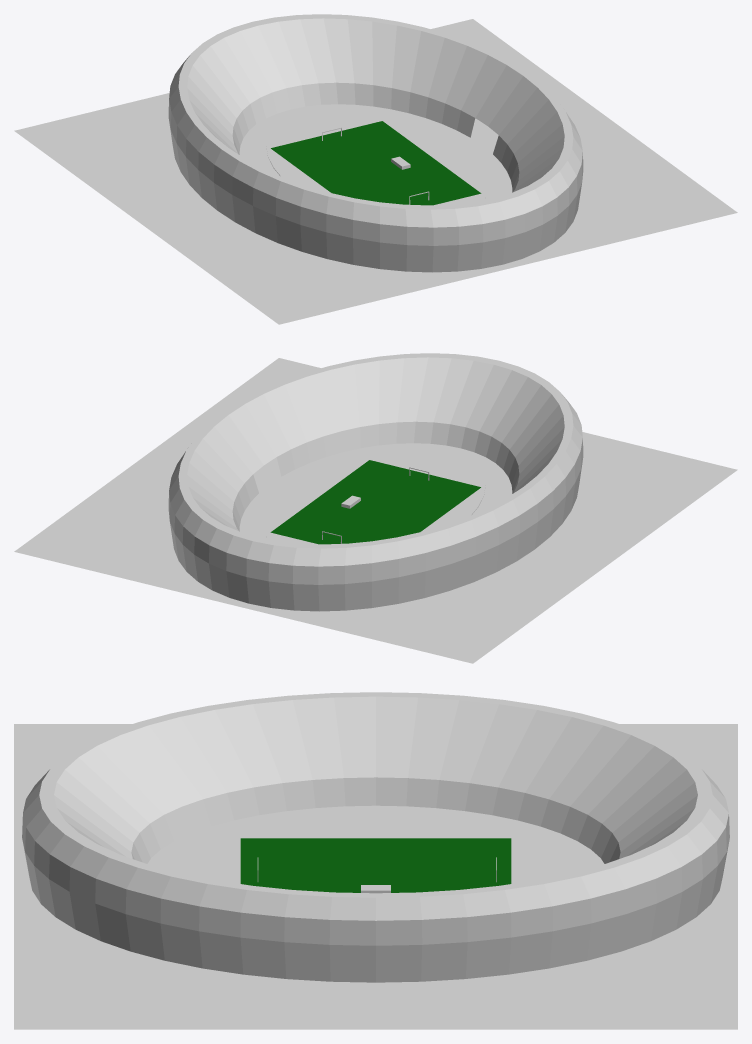
Rendered from ENacional.fbx.
3 renders of one model, top to bottom at view 1: azimuth 30°, elevation 25°; view 2: azimuth 150°, elevation 25°; view 3: azimuth 270°, elevation 25°, orthographic. The views are drawn at different scales.
Parts seen in each view (by area): view 1: Torus, Plane, Circle.001, Circle; view 2: Torus, Plane, Circle.001, Circle; view 3: Torus, Plane, Circle.001, Circle.
Boxes of the visible parts, x1,y1,x2,y2 form: Torus: (168,14,583,272); Plane: (14,19,737,324); Circle.001: (271,121,481,205); Circle: (266,112,485,205); Torus: (168,353,583,611); Plane: (14,358,737,663); Circle.001: (270,460,480,544); Circle: (266,451,485,544); Torus: (22,692,729,982); Plane: (14,724,737,1029); Circle.001: (240,838,511,892); Circle: (171,823,580,883).
Size of the model in its own units: 2000 by 281 by 2000.
